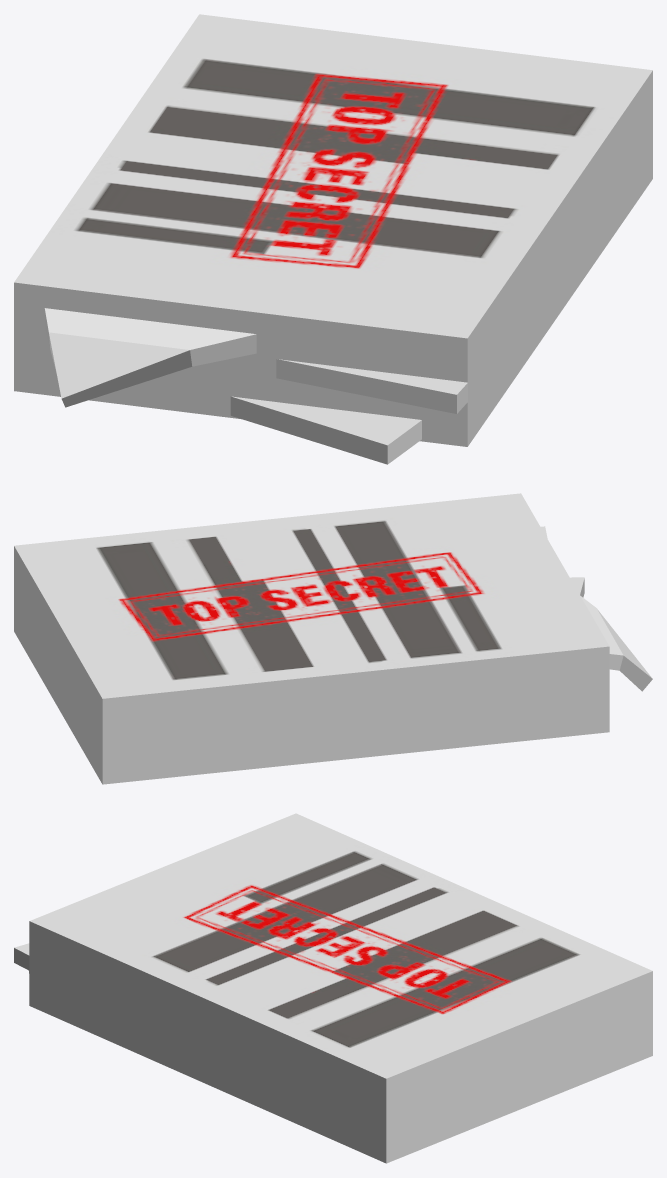
Rendered from StoreConfidential_L2_DocsCollectibleStatic_v8.gltf.
The picture shows the model from 3 angles, top to bottom: view 1: azimuth 30°, elevation 25°; view 2: azimuth 150°, elevation 25°; view 3: azimuth 270°, elevation 25°; orthographic projection. The views are drawn at different scales.
Visible parts, largest first — view 1: SC_DOCDesk; view 2: SC_DOCDesk; view 3: SC_DOCDesk.
Part boxes in pixels (x1,y1,x2,y2): SC_DOCDesk: [14, 14, 652, 464]; SC_DOCDesk: [14, 493, 652, 784]; SC_DOCDesk: [14, 813, 652, 1163].
Bounding box in the file's own units: 1.1 × 0.1628 × 1.11.
Materials: 1 (1 with a texture image).
